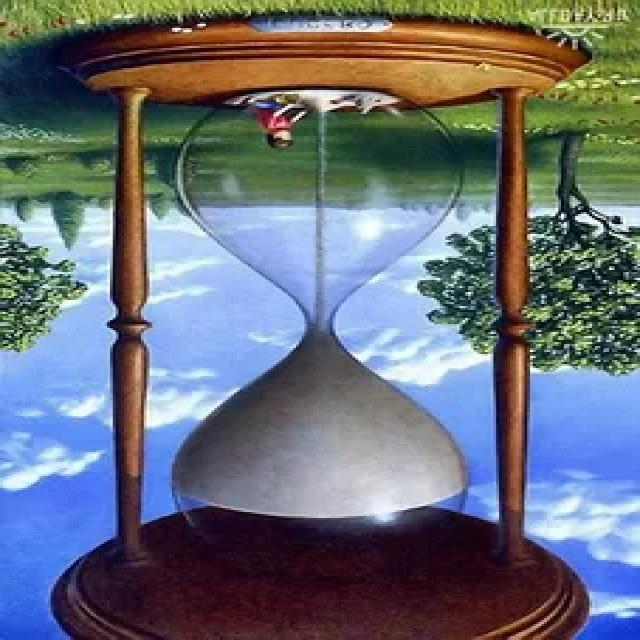clock: (43, 19, 603, 640)
